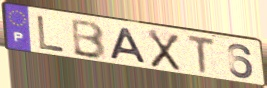6: (226, 42, 256, 80)
A: (109, 26, 149, 66)
B: (71, 18, 109, 61)
L: (35, 14, 67, 54)
T: (186, 33, 217, 76)
X: (146, 28, 182, 73)
